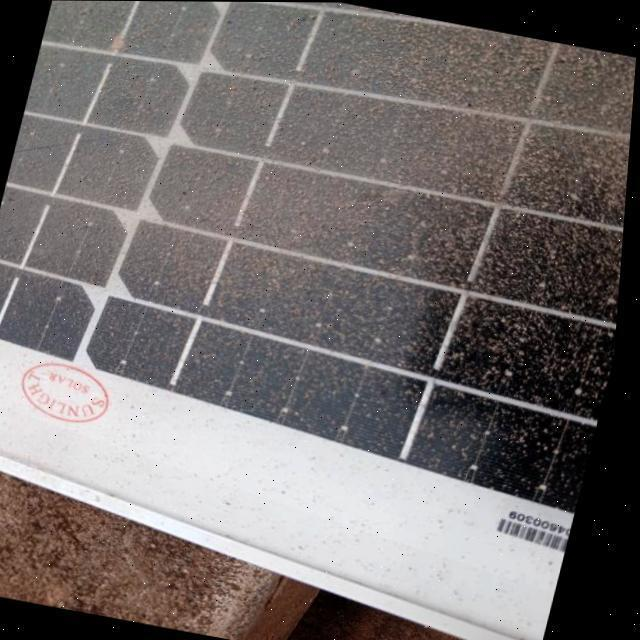Surface Contaminant: (0, 0, 637, 470)
